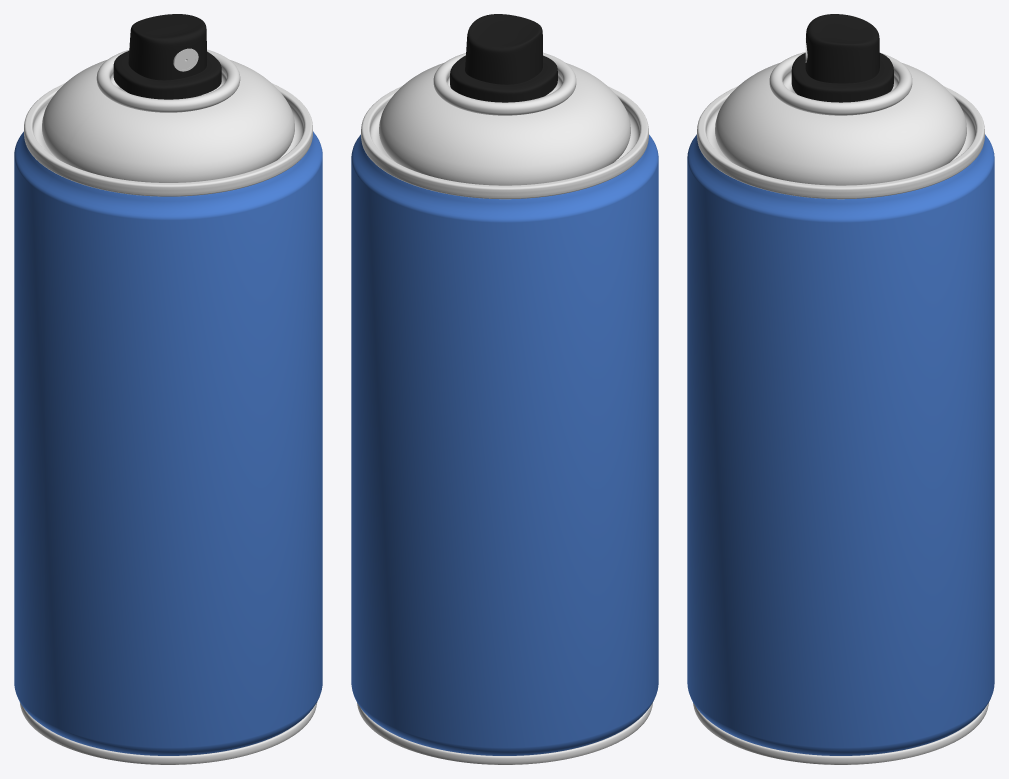
File: _praycan.fbx
3 renders of one model, left to right at view 1: azimuth 30°, elevation 25°; view 2: azimuth 150°, elevation 25°; view 3: azimuth 270°, elevation 25°, orthographic.
Visible parts, largest first — view 1: Cans, Cap definitivio; view 2: Cans, Cap definitivio; view 3: Cans, Cap definitivio.
Part boxes in pixels (x1=…): Cans: x1=14, y1=48, x2=322, y2=764; Cap definitivio: x1=113, y1=14, x2=221, y2=99; Cans: x1=351, y1=52, x2=658, y2=764; Cap definitivio: x1=450, y1=14, x2=557, y2=102; Cans: x1=687, y1=38, x2=994, y2=764; Cap definitivio: x1=791, y1=14, x2=893, y2=102.
Bounding box in the file's own units: 0.7299 × 1.77 × 0.7299.
